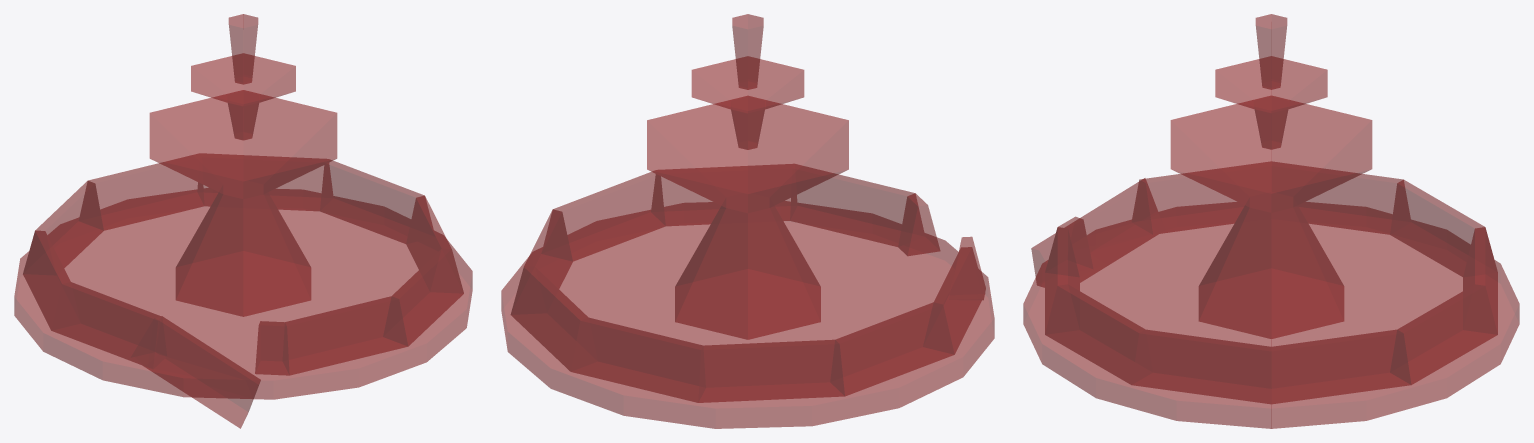
The model's file is SM_Env_Fountain_01_Collision.fbx.
The picture shows the model from 3 angles, left to right: view 1: azimuth 30°, elevation 25°; view 2: azimuth 150°, elevation 25°; view 3: azimuth 270°, elevation 25°; orthographic projection. The views are drawn at different scales.
Visible parts, largest first — view 1: SM_Env_Fountain_01_Collision; view 2: SM_Env_Fountain_01_Collision; view 3: SM_Env_Fountain_01_Collision.
Part boxes in pixels (x1,y1,x2,y2): SM_Env_Fountain_01_Collision: (14, 14, 472, 428); SM_Env_Fountain_01_Collision: (501, 14, 994, 428); SM_Env_Fountain_01_Collision: (1023, 14, 1519, 428).
Bounding box in the file's own units: 404 × 290 × 404.
